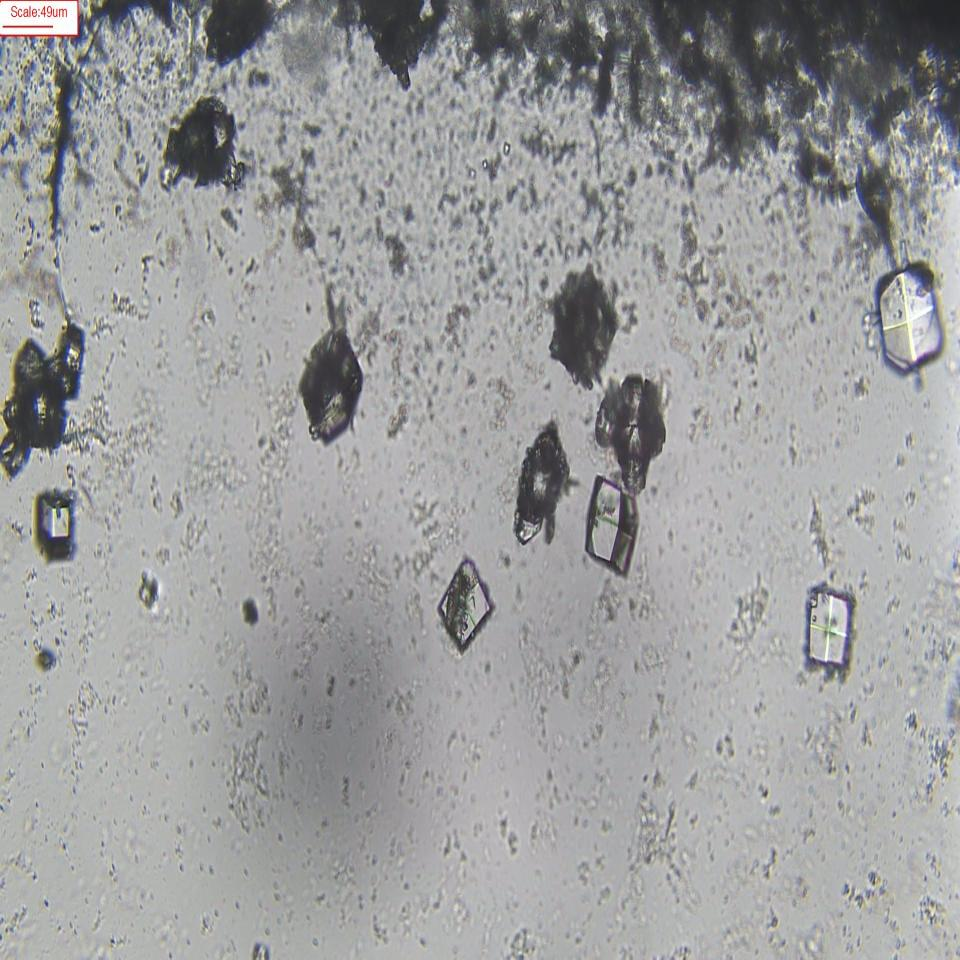crystal: (296, 332, 370, 453), (592, 372, 669, 481), (155, 105, 242, 193), (546, 272, 614, 384), (871, 267, 944, 371), (514, 428, 564, 553), (802, 580, 860, 680), (432, 549, 491, 646), (585, 477, 640, 576), (29, 489, 81, 570)
not_crystal: (6, 325, 93, 465)
